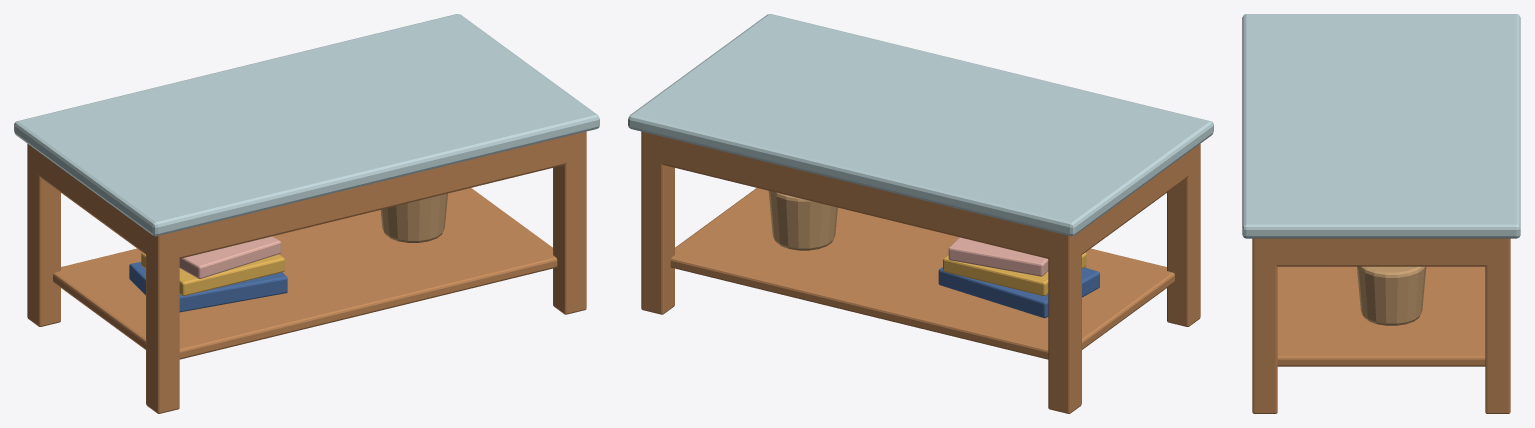
File: hh_cat_coffee_table_v.glb
3 views of the same model, side by side, from view 1: azimuth 30°, elevation 25°; view 2: azimuth 150°, elevation 25°; view 3: azimuth 270°, elevation 25° (orthographic).
Parts seen in each view (by area): view 1: top, shelf, apron, leg, leg.002, leg.001, basket, book, book.002, book.001; view 2: top, shelf, apron, leg.001, leg.003, leg, basket, book, book.002, book.001; view 3: top, shelf, apron, leg.003, leg.002, basket.
Part boxes in pixels (x1=…): top: x1=14, y1=14, x2=599, y2=236; shelf: x1=53, y1=188, x2=557, y2=359; apron: x1=38, y1=132, x2=584, y2=260; leg: x1=146, y1=231, x2=179, y2=413; leg.002: x1=553, y1=131, x2=586, y2=314; leg.001: x1=27, y1=144, x2=60, y2=326; basket: x1=380, y1=193, x2=447, y2=242; book: x1=129, y1=262, x2=287, y2=312; book.002: x1=179, y1=236, x2=281, y2=278; book.001: x1=141, y1=252, x2=284, y2=295; top: x1=628, y1=14, x2=1213, y2=236; shelf: x1=670, y1=188, x2=1174, y2=359; apron: x1=643, y1=132, x2=1195, y2=260; leg.001: x1=1048, y1=231, x2=1081, y2=413; leg.003: x1=641, y1=131, x2=674, y2=314; leg: x1=1167, y1=144, x2=1200, y2=326; basket: x1=768, y1=191, x2=837, y2=250; book: x1=938, y1=267, x2=1099, y2=318; book.002: x1=948, y1=237, x2=1048, y2=276; book.001: x1=943, y1=252, x2=1086, y2=295; top: x1=1242, y1=14, x2=1520, y2=238; shelf: x1=1277, y1=266, x2=1485, y2=366; apron: x1=1255, y1=238, x2=1506, y2=266; leg.003: x1=1485, y1=238, x2=1510, y2=413; leg.002: x1=1252, y1=238, x2=1277, y2=413; basket: x1=1357, y1=266, x2=1426, y2=325.
Size of the model in its own units: 1 by 0.42 by 0.55.
